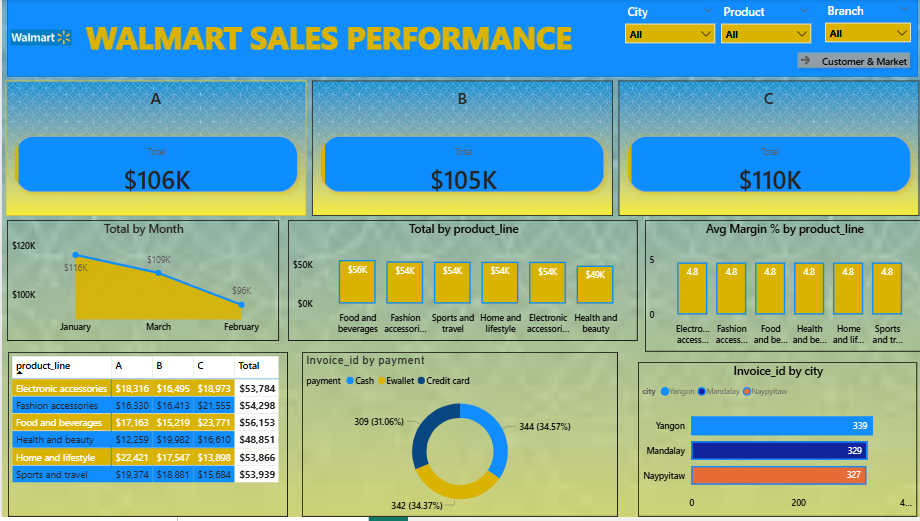

What the dashboard file says about the page in this screenshot:
{"tool":"powerbi","page":{"name":"Walmart Sales Dashboard","canvas":[1280,720],"ordinal":0},"visuals":[{"type":"cardVisual","fields":{"Data":["Sum(sales.total)"],"Rows":["sales.branch"]},"box":[0,108.4,1280.2,198.8],"z":2},{"type":"lineChart","title":"Total by Month","fields":{"Y":["Sum(sales.total)"],"Category":["sales.MONTHNAME"]},"box":[6.9,307.2,378.1,168.2],"z":3},{"type":"columnChart","title":"Total by product_line","fields":{"Category":["sales.product_line"],"Y":["Sum(sales.total)"]},"box":[397.5,307.2,486.5,168.2],"z":4},{"type":"columnChart","fields":{"Y":["sales.Avg Margin %"],"Category":["sales.product_line"]},"box":[893.7,307.2,386.4,183.5],"z":5},{"type":"pivotTable","fields":{"Rows":["sales.product_line"],"Columns":["sales.branch"],"Values":["Sum(sales.total)"]},"box":[8.3,490.7,389.2,229.3],"z":6},{"type":"donutChart","title":"Invoice_id by payment","fields":{"Y":["CountNonNull(sales.invoice_id)"],"Category":["sales.payment"]},"box":[417,490.7,439.2,229.3],"z":7},{"type":"barChart","title":"Invoice_id by city","fields":{"Category":["sales.city"],"Y":["CountNonNull(sales.invoice_id)"],"Series":["sales.city"]},"box":[884,504.6,387.8,215.4],"z":9},{"type":"shape","box":[6.9,0,1266.3,108.4],"z":13},{"type":"image","box":[6.9,26.4,94.5,54.2],"z":14},{"type":"slicer","fields":{"Values":["sales.product_line"]},"box":[989.7,1.4,144.6,66.7],"z":15},{"type":"slicer","fields":{"Values":["sales.branch"]},"box":[1134.2,0,139,68.1],"z":16},{"type":"slicer","fields":{"Values":["sales.city"]},"box":[856.2,1.4,144.6,63.9],"z":17},{"type":"textbox","box":[65.3,18.1,778.4,80.6],"z":18},{"type":"actionButton","box":[1097.1,64.9,174.3,39.3],"z":20}]}

Visuals, with their boxes in screenshot pixels (x1, y1, x2, y2), scaled from the page's 1280x720 canvas onto the 920x521 screenshot:
cardVisual - Sum(sales.total) x sales.branch: BBox(0, 78, 919, 222)
"Total by Month" lineChart: BBox(5, 222, 277, 344)
"Total by product_line" columnChart: BBox(286, 222, 635, 344)
columnChart - sales.Avg Margin % x sales.product_line: BBox(642, 222, 919, 355)
pivotTable - sales.product_line x sales.branch: BBox(6, 355, 286, 520)
"Invoice_id by payment" donutChart: BBox(300, 355, 615, 520)
"Invoice_id by city" barChart: BBox(635, 365, 914, 520)
shape: BBox(5, 0, 915, 78)
image: BBox(5, 19, 73, 58)
slicer - sales.product_line: BBox(711, 1, 815, 49)
slicer - sales.branch: BBox(815, 0, 915, 49)
slicer - sales.city: BBox(615, 1, 719, 47)
textbox: BBox(47, 13, 606, 71)
actionButton: BBox(789, 47, 914, 75)
